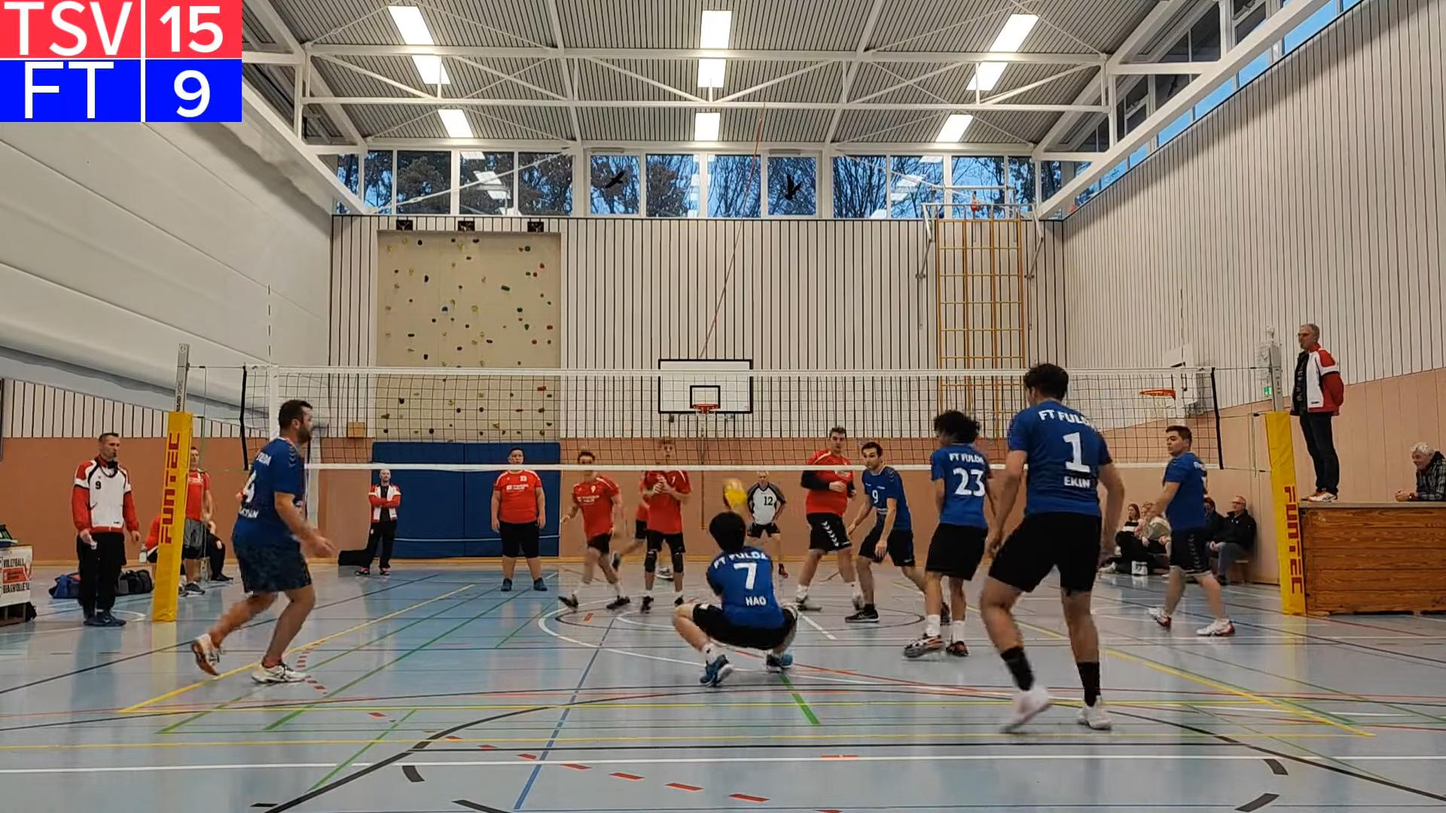Player: (980, 364, 1124, 730), (191, 400, 335, 683), (905, 411, 991, 657), (1136, 425, 1234, 635), (845, 441, 925, 623), (795, 427, 863, 611), (561, 468, 629, 609), (640, 439, 691, 612), (491, 447, 546, 591), (745, 471, 786, 577), (611, 498, 647, 572)
Receive: (676, 506, 799, 686)
ball: (717, 473, 748, 512)
